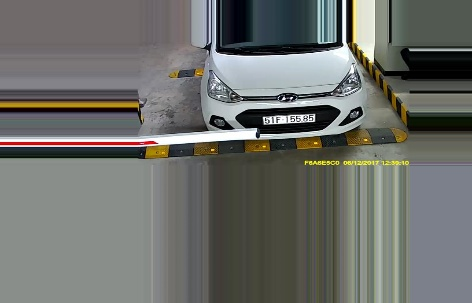plate: (261, 112, 319, 124)
